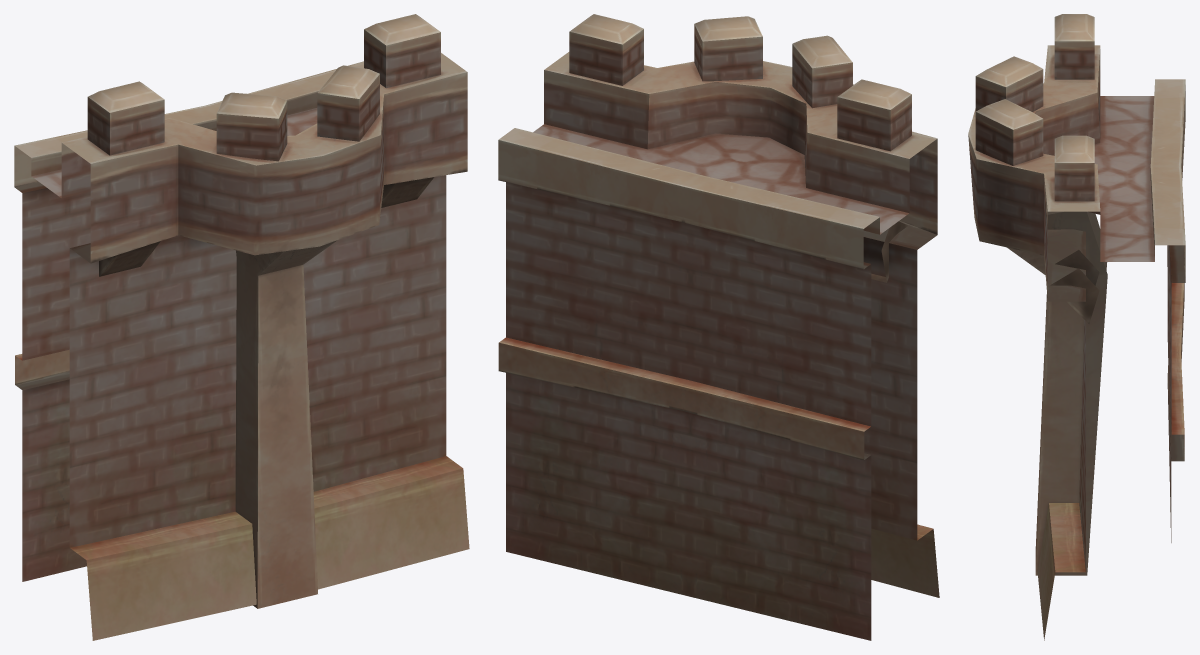
Rendered from castleWalls_smallWall_2.FBX.
3 views of the same model, side by side, from view 1: azimuth 30°, elevation 25°; view 2: azimuth 150°, elevation 25°; view 3: azimuth 270°, elevation 25° (orthographic). The views are drawn at different scales.
Visible parts, largest first — view 1: castleWalls_smallWall_2; view 2: castleWalls_smallWall_2; view 3: castleWalls_smallWall_2.
Boxes of the visible parts, x1,y1,x2,y2 form: castleWalls_smallWall_2: (14, 14, 469, 640); castleWalls_smallWall_2: (498, 14, 939, 640); castleWalls_smallWall_2: (968, 14, 1185, 640).
Size of the model in its own units: 302 by 405 by 167.
Materials: 1 (1 with a texture image).
